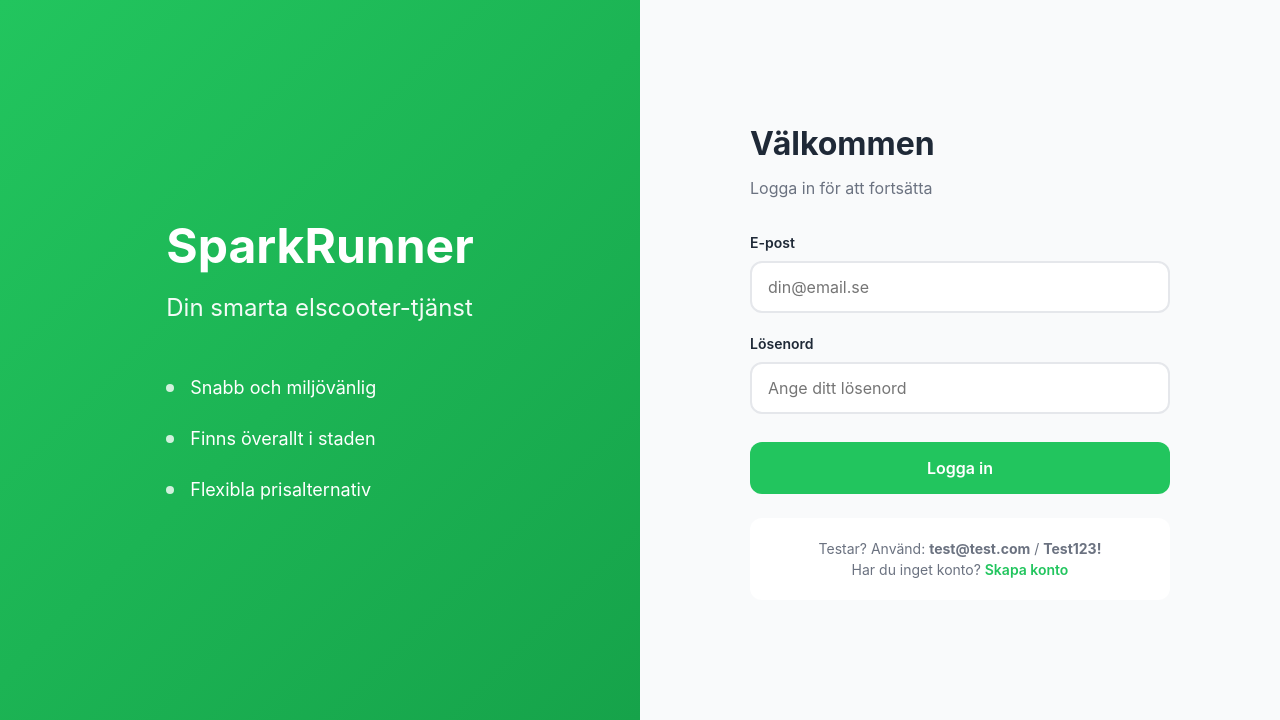
Test: LoginPage › should show error message on login failure
The width and height of the screenshot is (1280, 720).
Type "wrong@test.com" into the field labelled "E-post".
click(960, 287); type("wrong@test.com")  # box [750,261,1170,313]
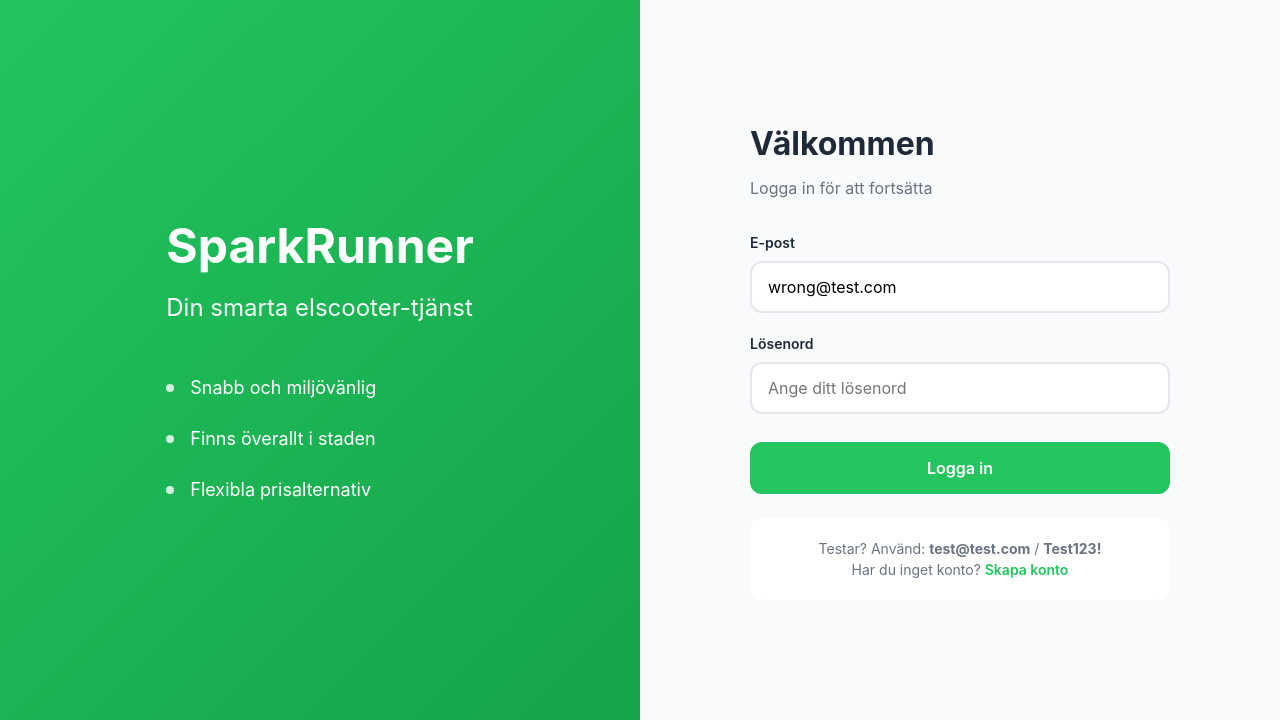
Type "wrong" into the password field labelled "Lösenord".
click(960, 388); type("wrong")  # box [750,362,1170,414]
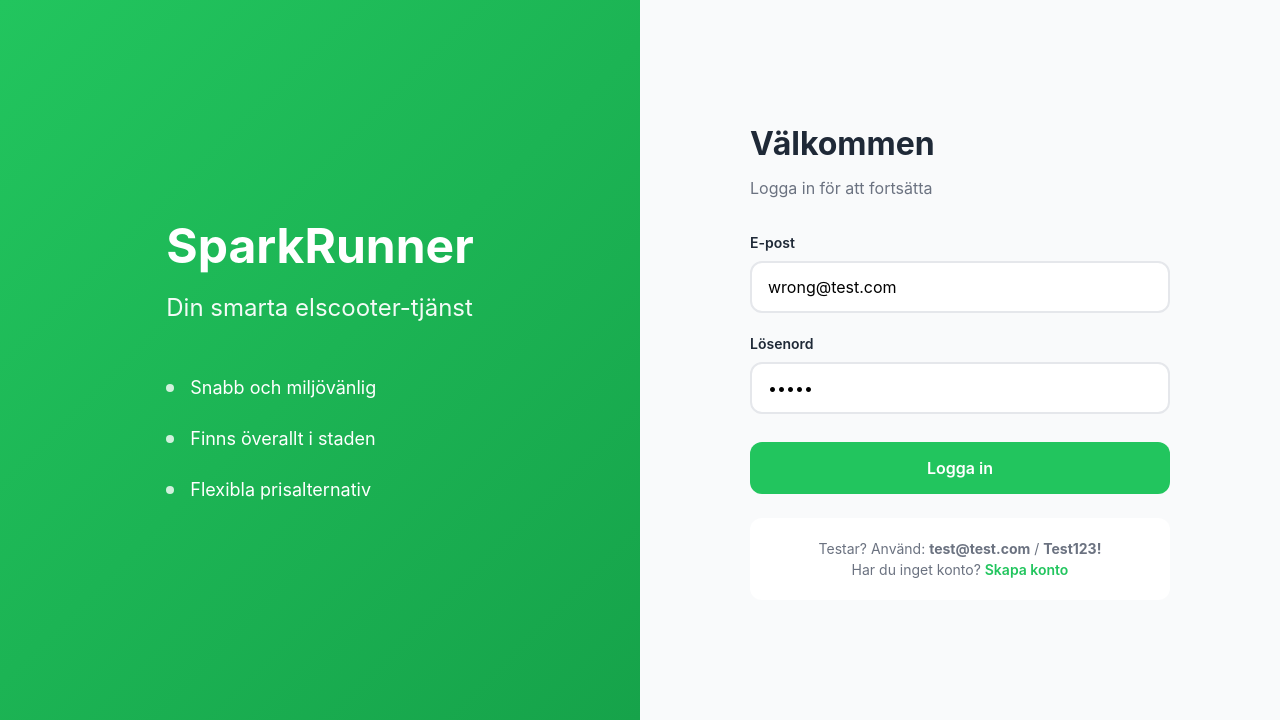
Click the button "Logga in".
click(960, 468)  # box [750,442,1170,494]
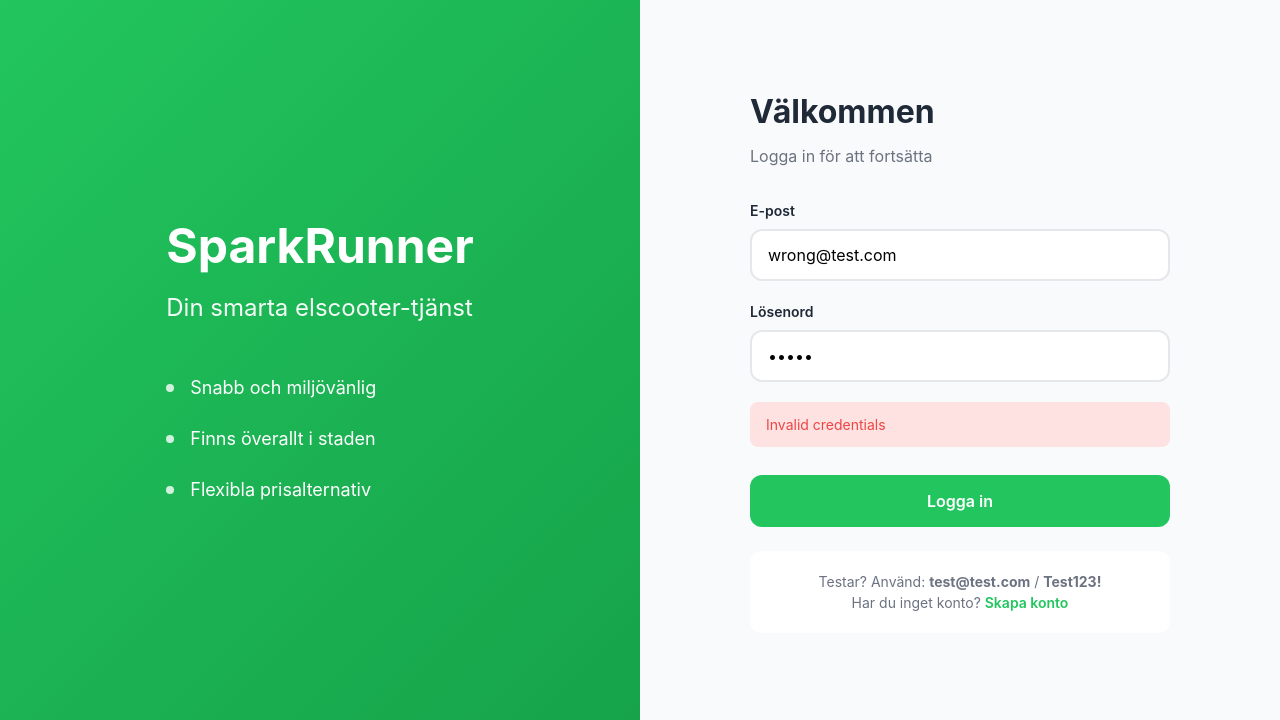
Expected: the text "Invalid credentials" is shown, [750,402,1170,446]
